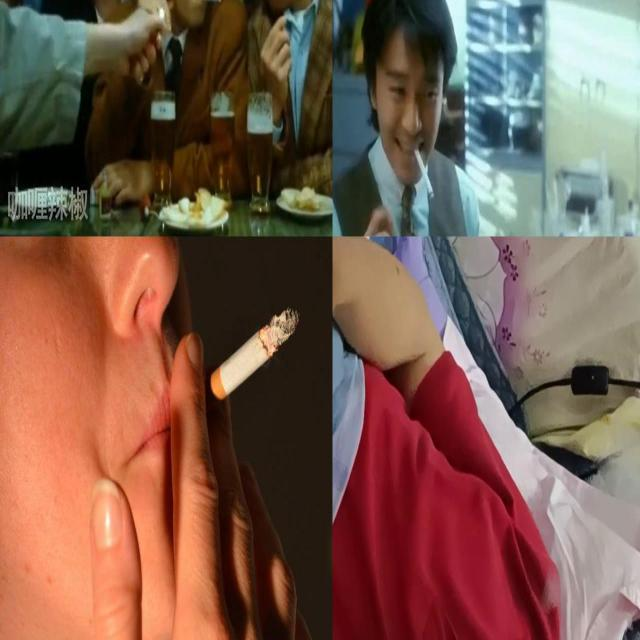smoke: (201, 300, 303, 416), (414, 146, 436, 204), (200, 0, 222, 4)
